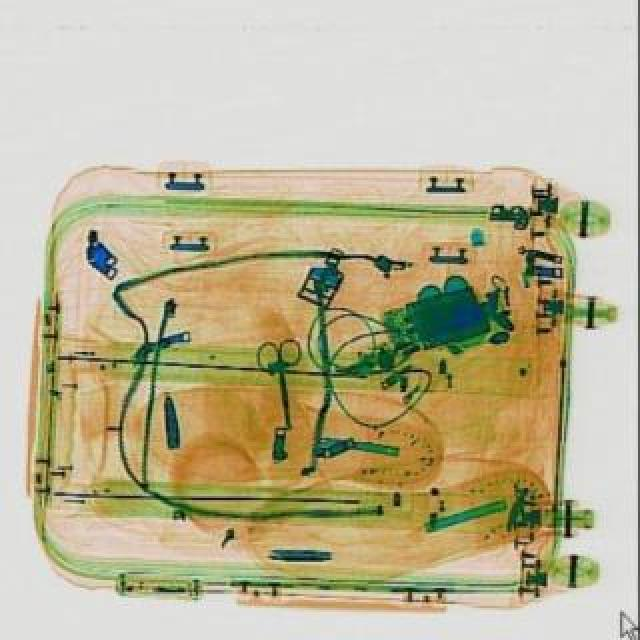pliers: (250, 338, 310, 428)
